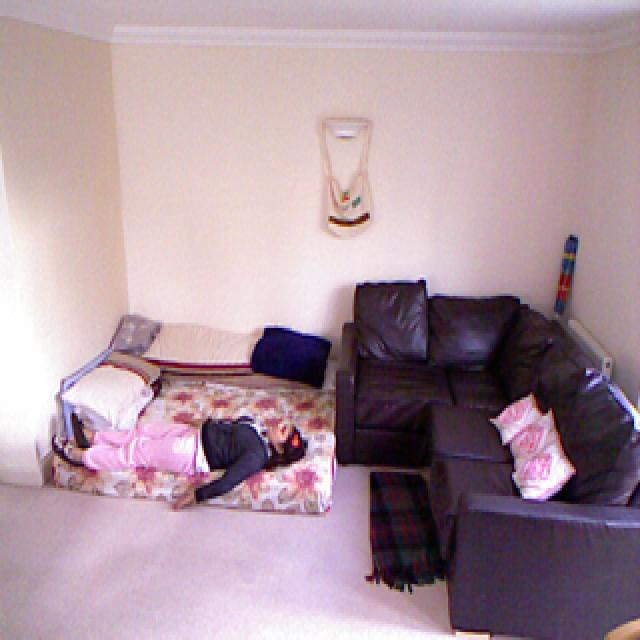lying: (49, 406, 306, 508)
